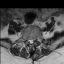CCS_stenosis: (30, 37, 32, 46)
LFS_normal: (34, 35, 36, 42)
LLS_normal: (32, 37, 34, 45)
RFS_stenosis: (25, 36, 28, 42)
RLS_normal: (28, 37, 30, 44)
